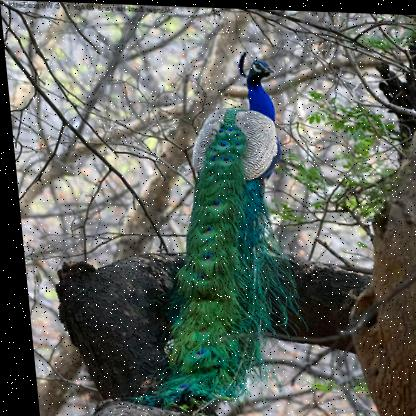Burung: (93, 44, 300, 410)
